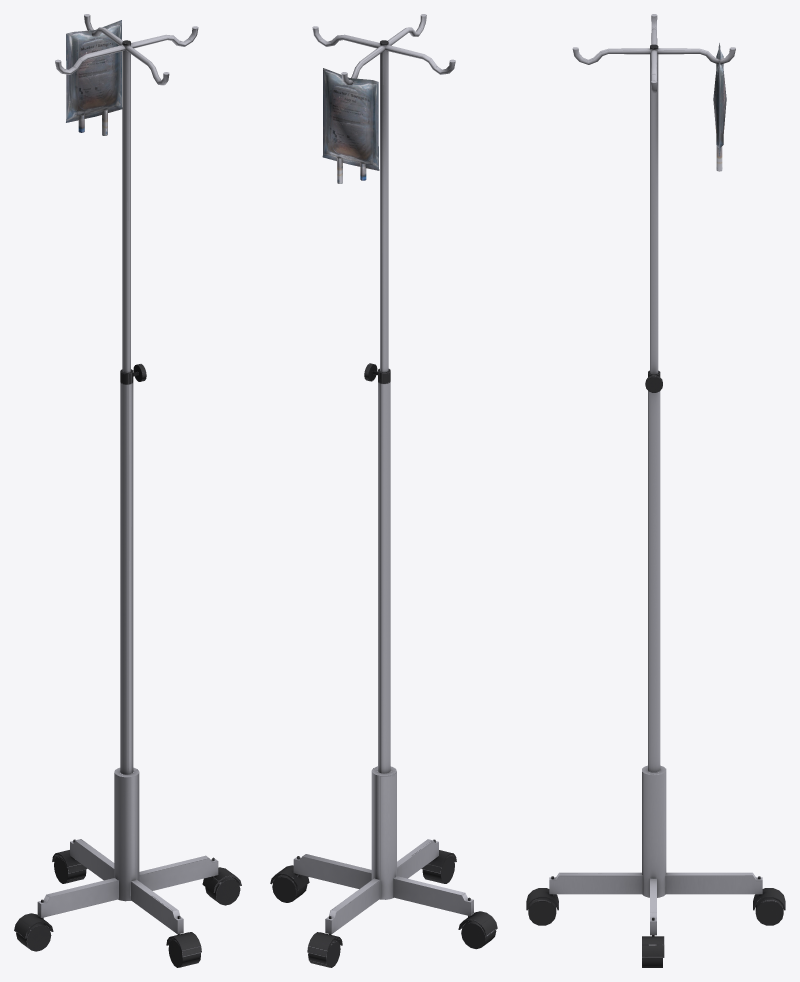
The model's file is infusion_set.obj.
The picture shows the model from 3 angles, left to right: view 1: azimuth 30°, elevation 25°; view 2: azimuth 150°, elevation 25°; view 3: azimuth 270°, elevation 25°; orthographic projection.
Visible parts, largest first — view 1: Box02; view 2: Box02; view 3: Box02.
Boxes of the visible parts, <box> form: Box02: <box>14,14,241,967</box>; Box02: <box>270,14,497,967</box>; Box02: <box>526,14,785,967</box>.
Bounding box in the file's own units: 117 × 456 × 122.
